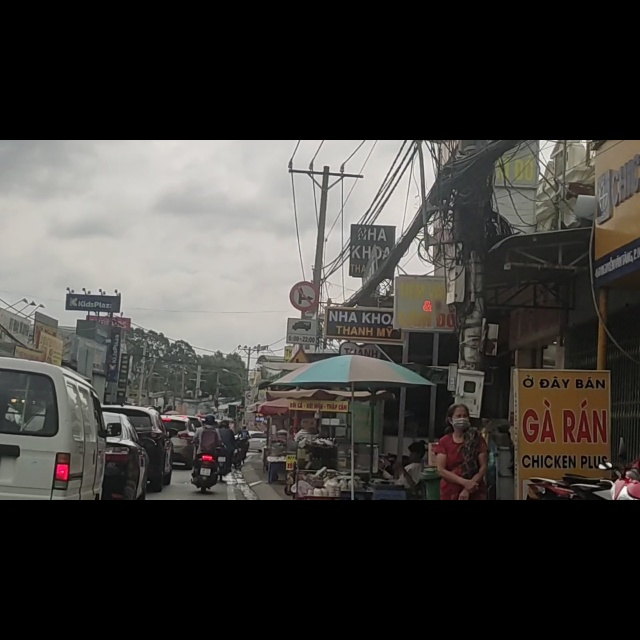bien_cam: (289, 250, 318, 301), (286, 320, 317, 361)
